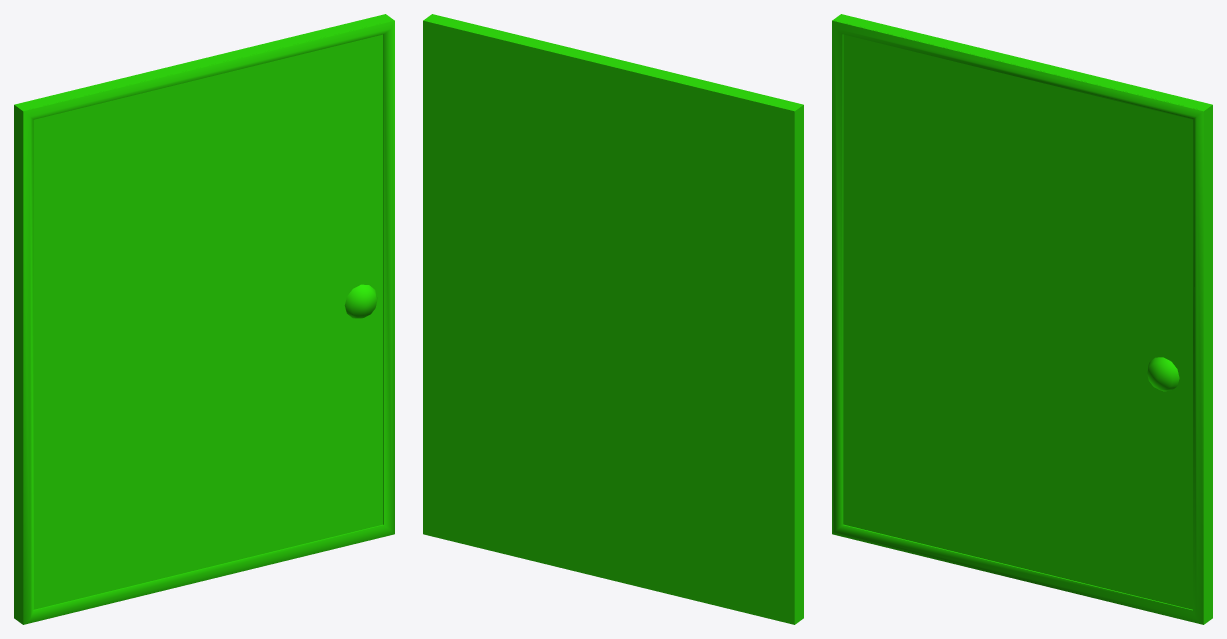
The model's file is Cupboard_18_Door_Lod0.fbx.
3 renders of one model, left to right at view 1: azimuth 30°, elevation 25°; view 2: azimuth 150°, elevation 25°; view 3: azimuth 330°, elevation 25°, orthographic.
Visible parts, largest first — view 1: Cupboard_18_Door_Lod0; view 2: Cupboard_18_Door_Lod0; view 3: Cupboard_18_Door_Lod0.
Part boxes in pixels (bbox=[...]): Cupboard_18_Door_Lod0: bbox=[14, 14, 394, 624]; Cupboard_18_Door_Lod0: bbox=[423, 14, 803, 624]; Cupboard_18_Door_Lod0: bbox=[832, 14, 1212, 624].
Bounding box in the file's own units: 43.95 × 58.05 × 3.66.
